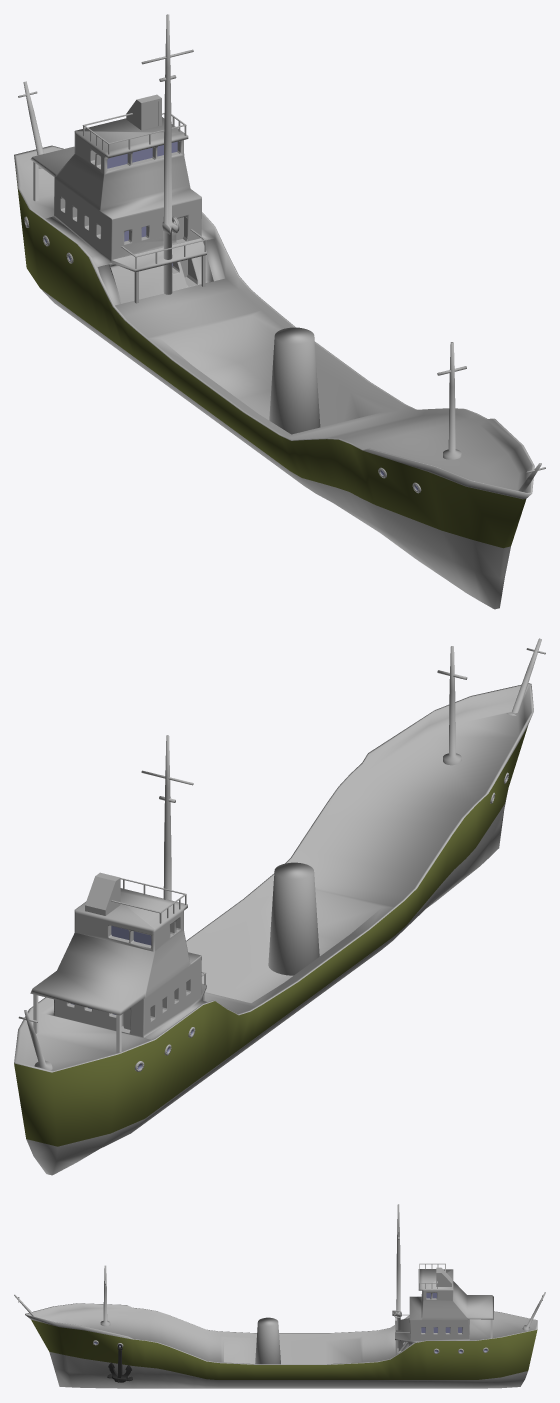
Rendered from D2_Ship5.glb.
3 views of the same model, one above another, from view 1: azimuth 30°, elevation 25°; view 2: azimuth 150°, elevation 25°; view 3: azimuth 270°, elevation 25° (orthographic). The views are drawn at different scales.
Visible parts, largest first — view 1: Object_6, Object_2, Cylinder, Object_4; view 2: Object_6, Object_2, Cylinder; view 3: Object_6, Object_2, Cylinder, osnova_low.
Part boxes in pixels (<box>): Object_6: <box>14,14,545,609</box>; Object_2: <box>15,164,526,548</box>; Cylinder: <box>269,327,320,434</box>; Object_4: <box>26,141,418,490</box>; Object_6: <box>14,638,545,1175</box>; Object_2: <box>14,726,527,1146</box>; Cylinder: <box>268,862,319,975</box>; Object_6: <box>14,1204,545,1388</box>; Object_2: <box>31,1319,537,1379</box>; Cylinder: <box>255,1317,280,1364</box>; osnova_low: <box>107,1362,132,1382</box>.
Bounding box in the file's own units: 6.51 × 16.34 × 43.39.
